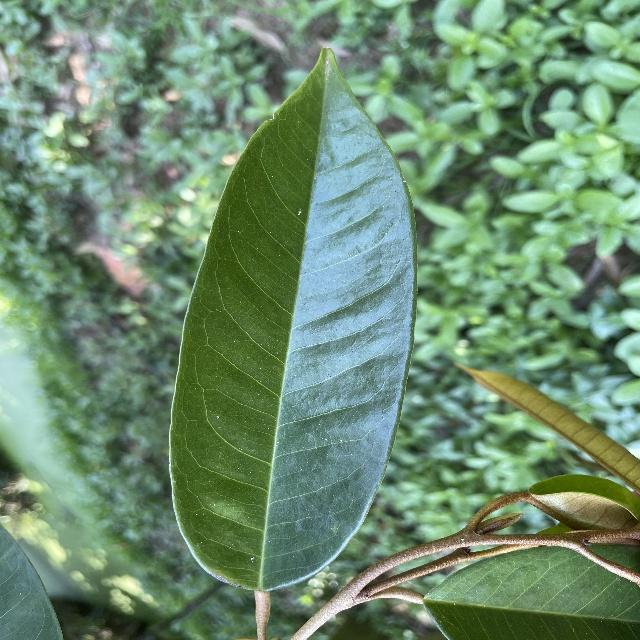No Disease: (158, 48, 431, 597)
